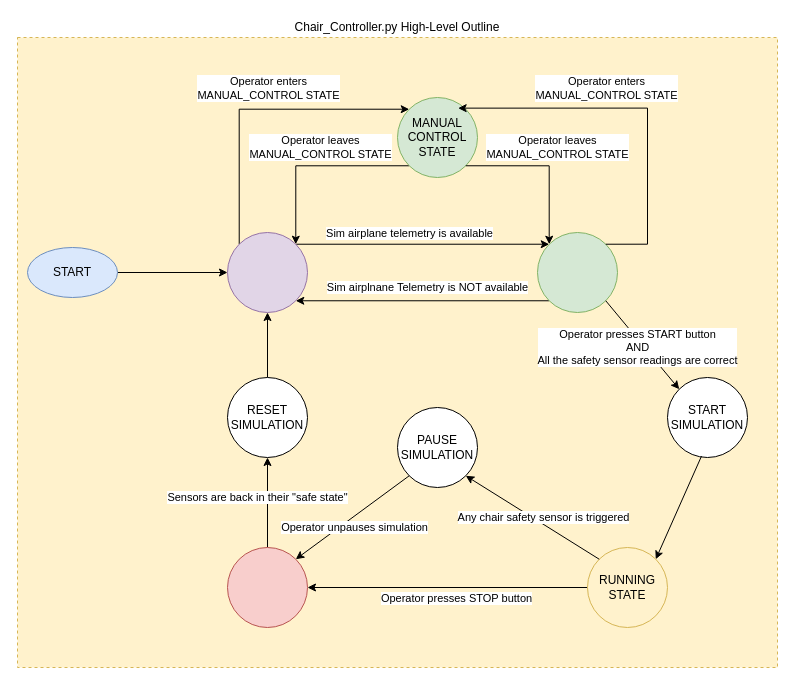
This 795x685 diagram has some shape labels left out. The box of each missing label's shape, as (x1, y1, x2, y2) in pixels:
IDLE STATE: (226, 232, 308, 312)
READY STATE: (536, 232, 618, 312)
STOP STATE: (226, 546, 308, 628)
